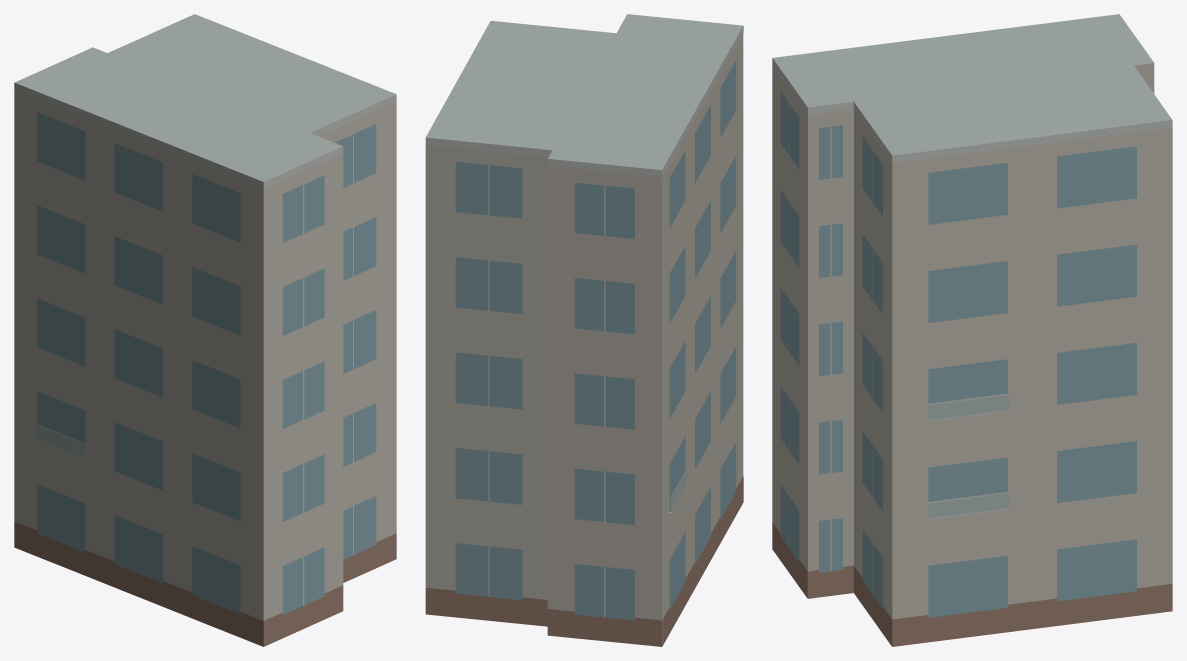
Rendered from survey-upis-32709732.glb.
The picture shows the model from 3 angles, left to right: view 1: azimuth 30°, elevation 25°; view 2: azimuth 150°, elevation 25°; view 3: azimuth 270°, elevation 25°; orthographic projection. The views are drawn at different scales.
Parts seen in each view (by area): view 1: survey-upis-32709732.tmp; view 2: survey-upis-32709732.tmp; view 3: survey-upis-32709732.tmp.
Boxes of the visible parts, x1,y1,x2,y2 form: survey-upis-32709732.tmp: (14,14,396,646); survey-upis-32709732.tmp: (425,14,743,646); survey-upis-32709732.tmp: (772,14,1172,646).
Bounding box in the file's own units: 9.98 × 16.12 × 11.91.
